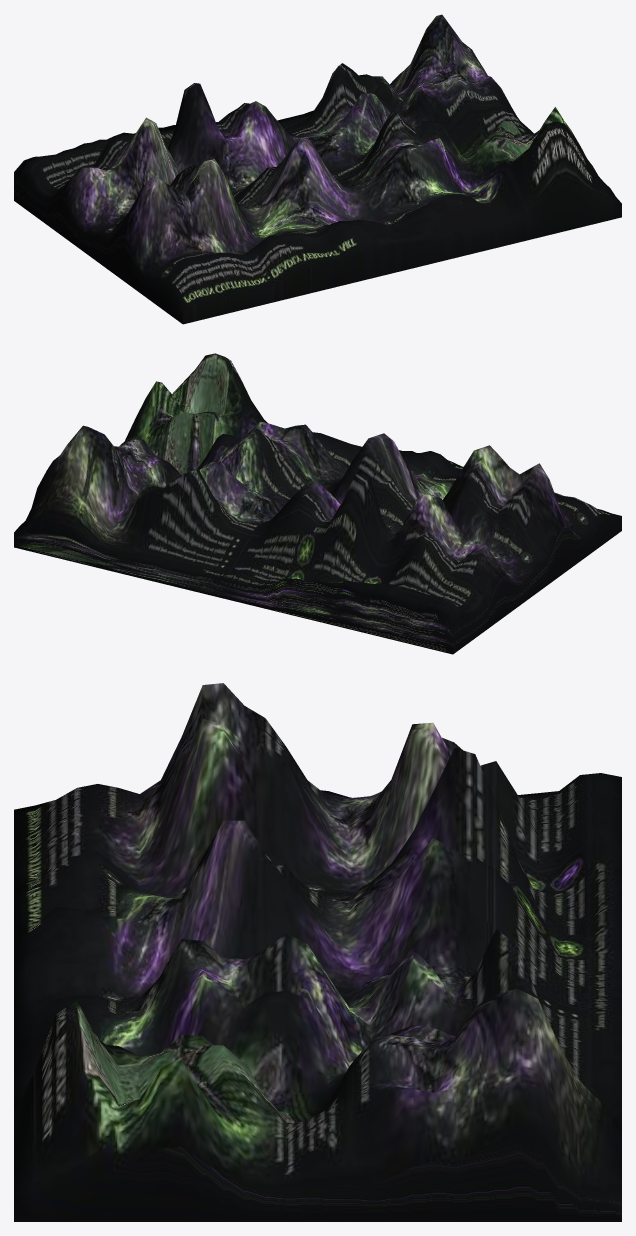
Rendered from CUL_56_Poison_Cultivation.glb.
3 renders of one model, top to bottom at view 1: azimuth 30°, elevation 25°; view 2: azimuth 150°, elevation 25°; view 3: azimuth 270°, elevation 25°, orthographic. The views are drawn at different scales.
Parts seen in each view (by area): view 1: CUL_56_Poison_Cultivation; view 2: CUL_56_Poison_Cultivation; view 3: CUL_56_Poison_Cultivation.
Part boxes in pixels (x1,y1,x2,y2): CUL_56_Poison_Cultivation: (14, 14, 621, 324); CUL_56_Poison_Cultivation: (14, 353, 621, 654); CUL_56_Poison_Cultivation: (14, 683, 621, 1221).
Bounding box in the file's own units: 2 × 0.51 × 1.33.
Materials: 1 (1 with a texture image).
